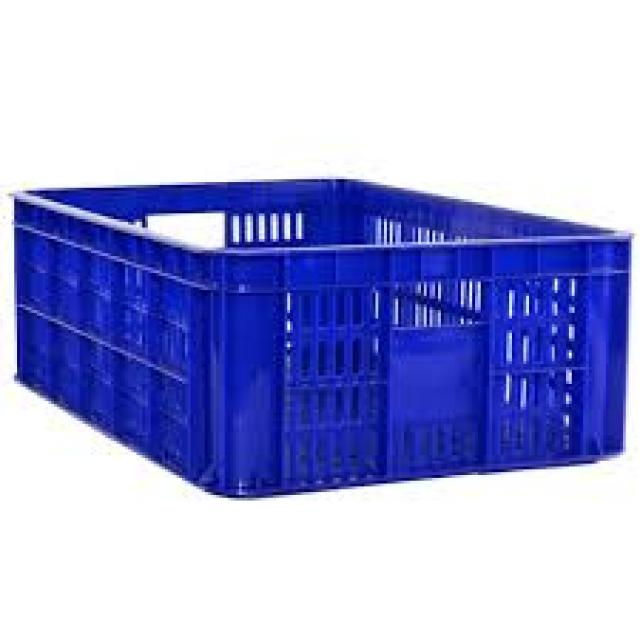basket: (16, 177, 636, 498)
